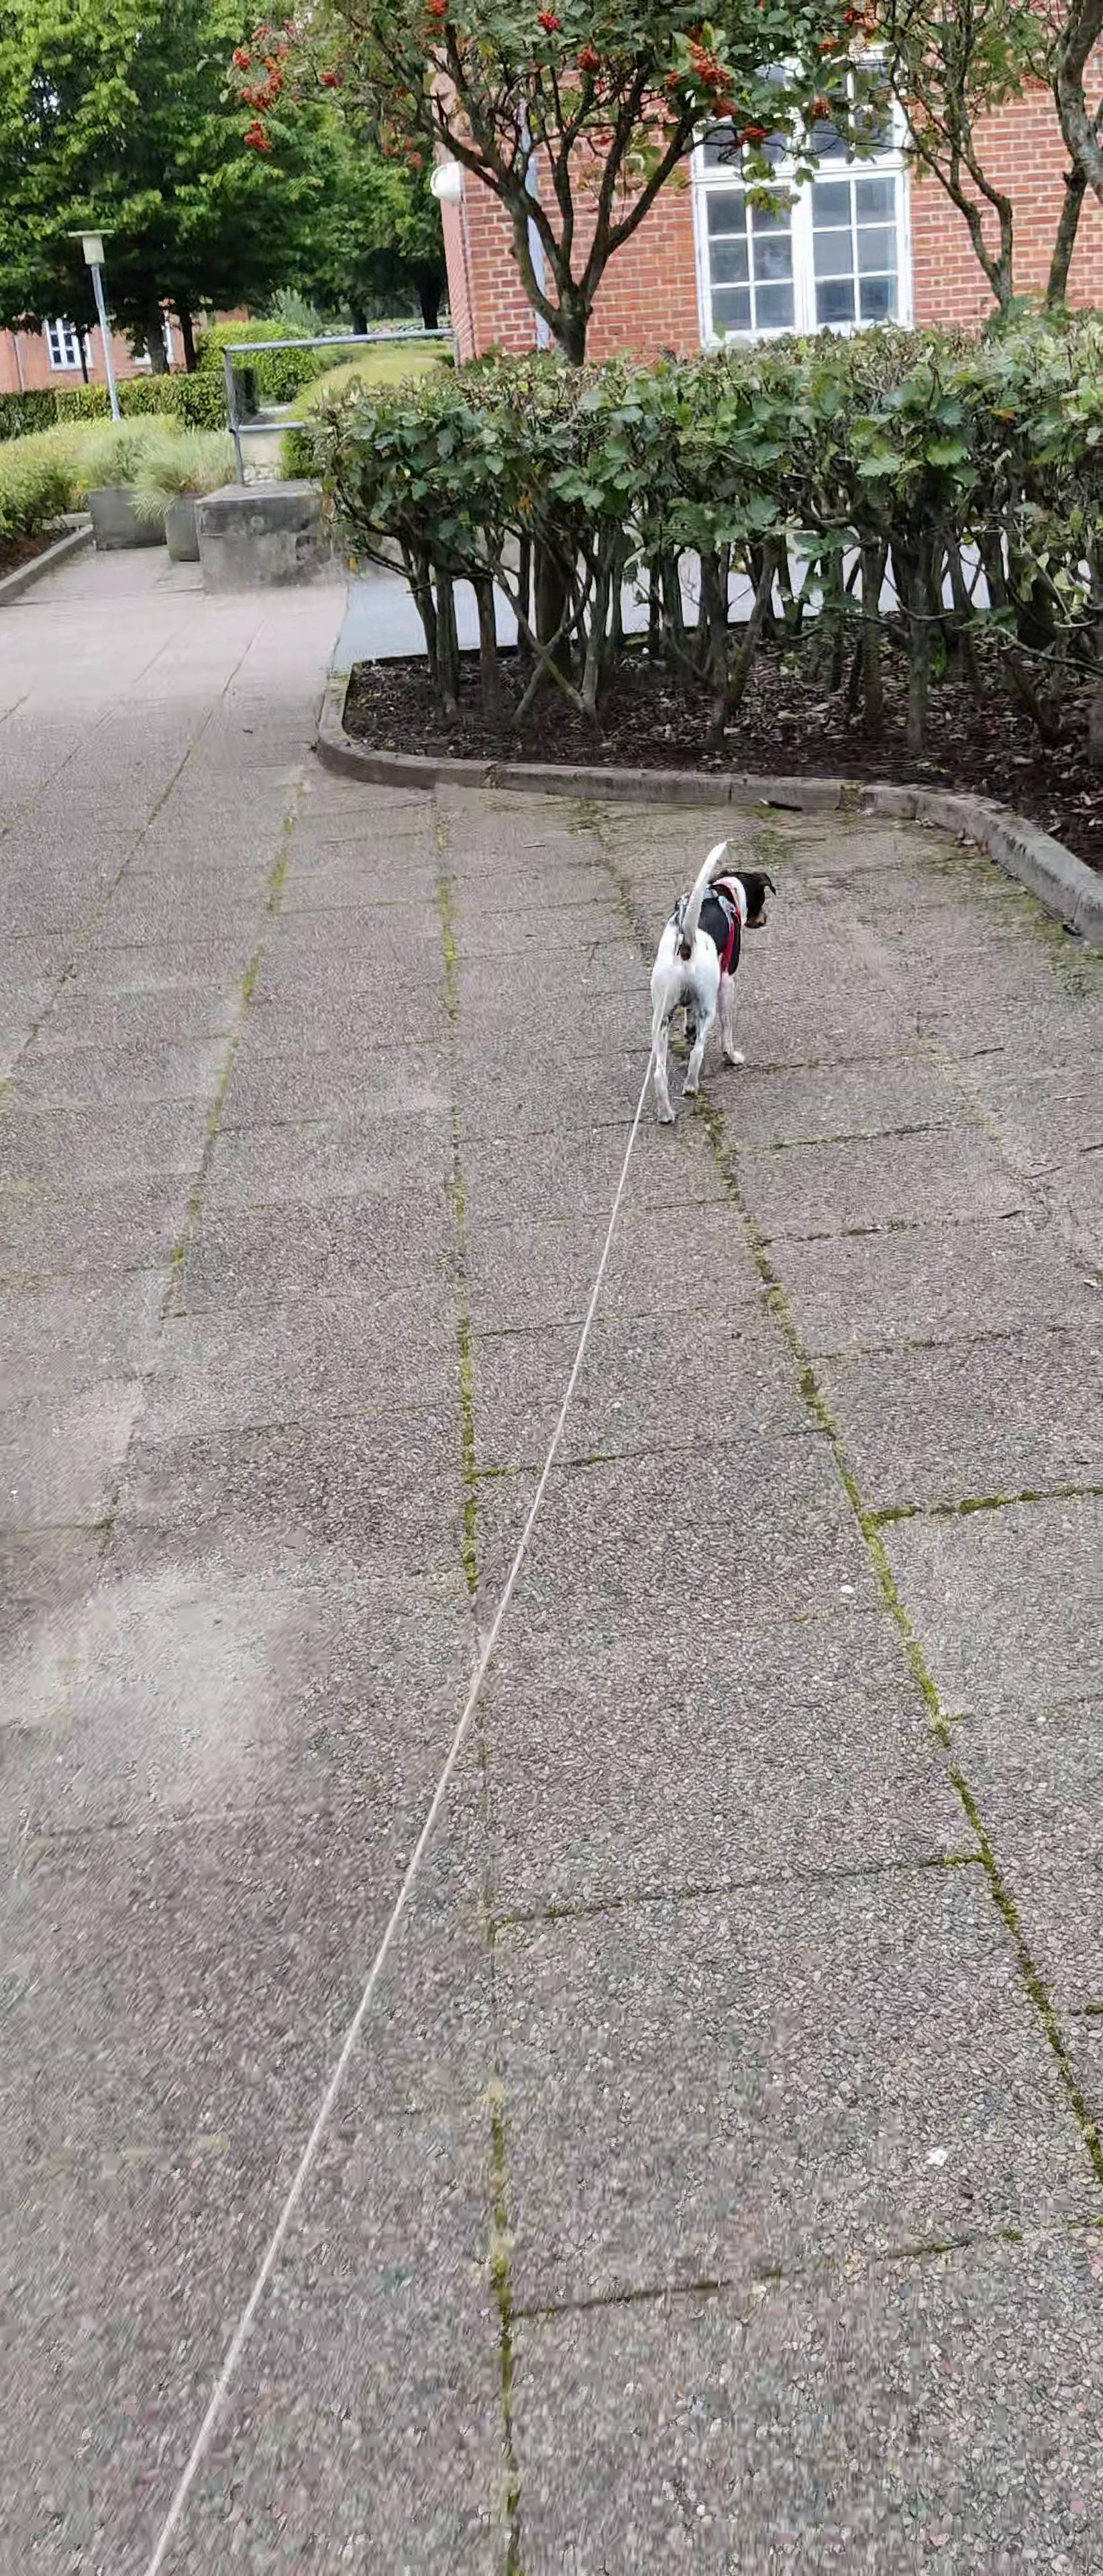Dog: (621, 821, 792, 1150)
